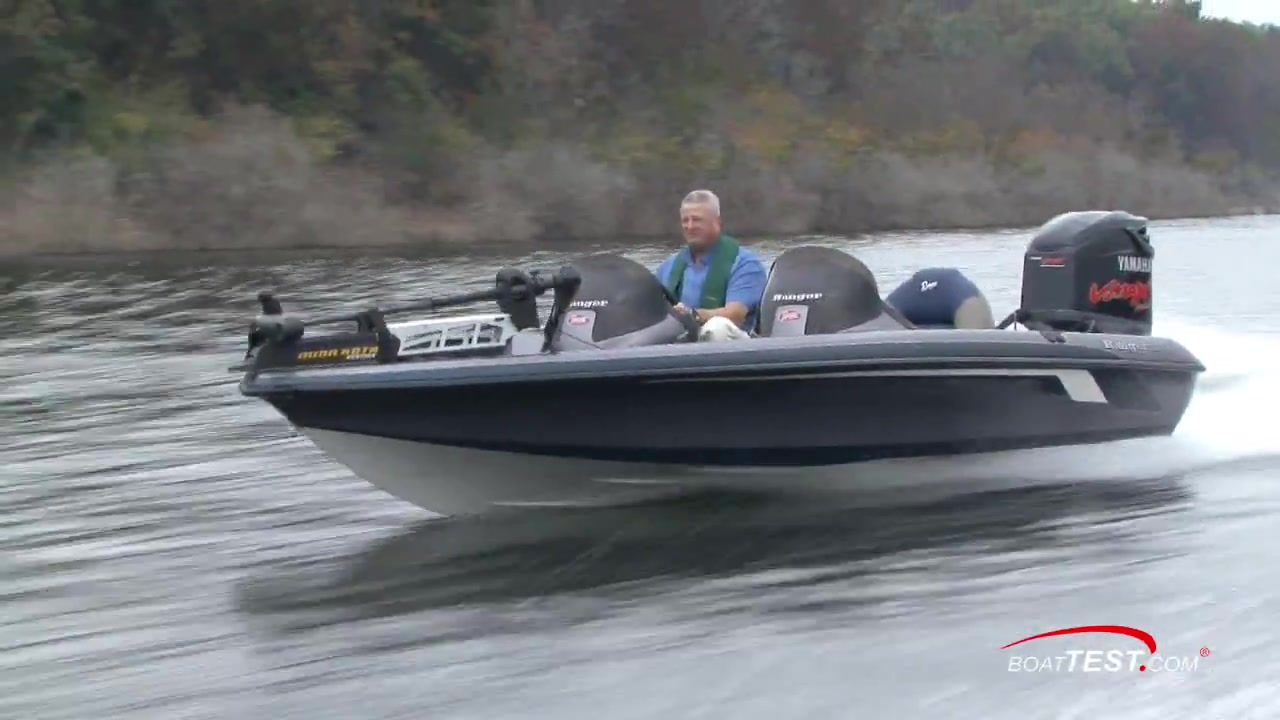boat: (233, 208, 1208, 523)
